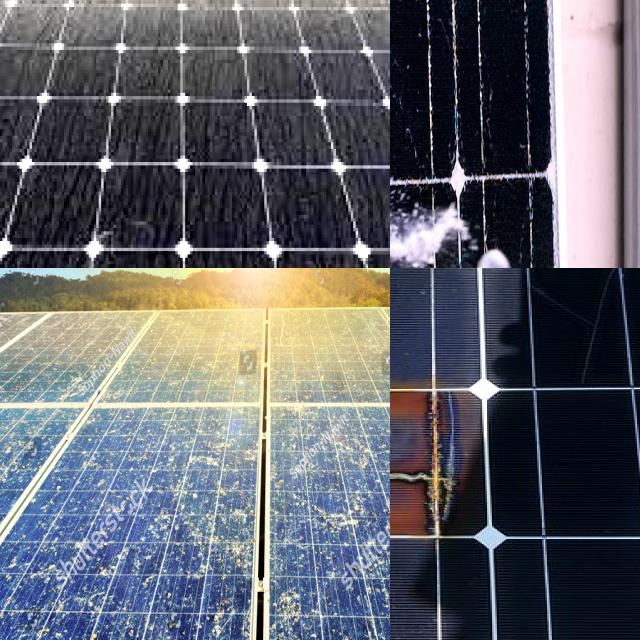bird: (334, 486, 389, 562), (0, 422, 48, 472), (273, 588, 315, 640), (54, 358, 97, 406), (227, 507, 260, 569), (196, 594, 238, 640), (191, 452, 223, 490), (95, 544, 118, 594), (0, 543, 18, 591), (138, 558, 164, 590), (0, 541, 13, 576)
dust: (35, 98, 161, 233), (186, 104, 316, 232), (29, 28, 190, 92), (0, 94, 65, 230), (232, 28, 354, 90), (161, 0, 296, 50), (354, 102, 390, 249), (55, 0, 127, 59), (16, 0, 198, 18), (323, 0, 390, 39), (0, 0, 35, 66), (206, 0, 348, 16), (298, 244, 365, 268), (311, 0, 368, 26), (0, 0, 35, 41), (0, 0, 66, 18)
hotspot: (390, 129, 513, 268)
shadow: (390, 373, 485, 563)
